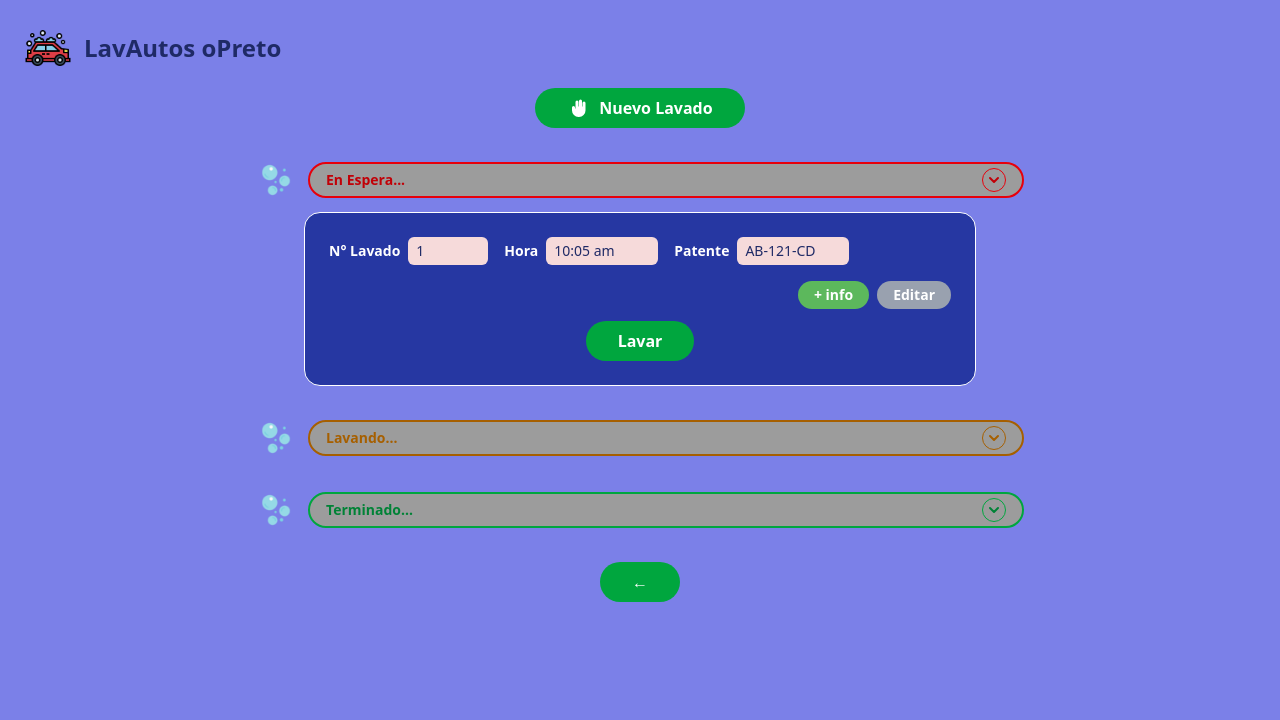
Test case: LavadosPage › +info abre la ventana con los datos y Aceptar la cierra
The image size is (1280, 720).
Check: the field showing "1" is shown, box x1=408 y1=237 x2=488 y2=265
Click the button "+ info": (834, 295) x1=798 y1=281 x2=869 y2=309
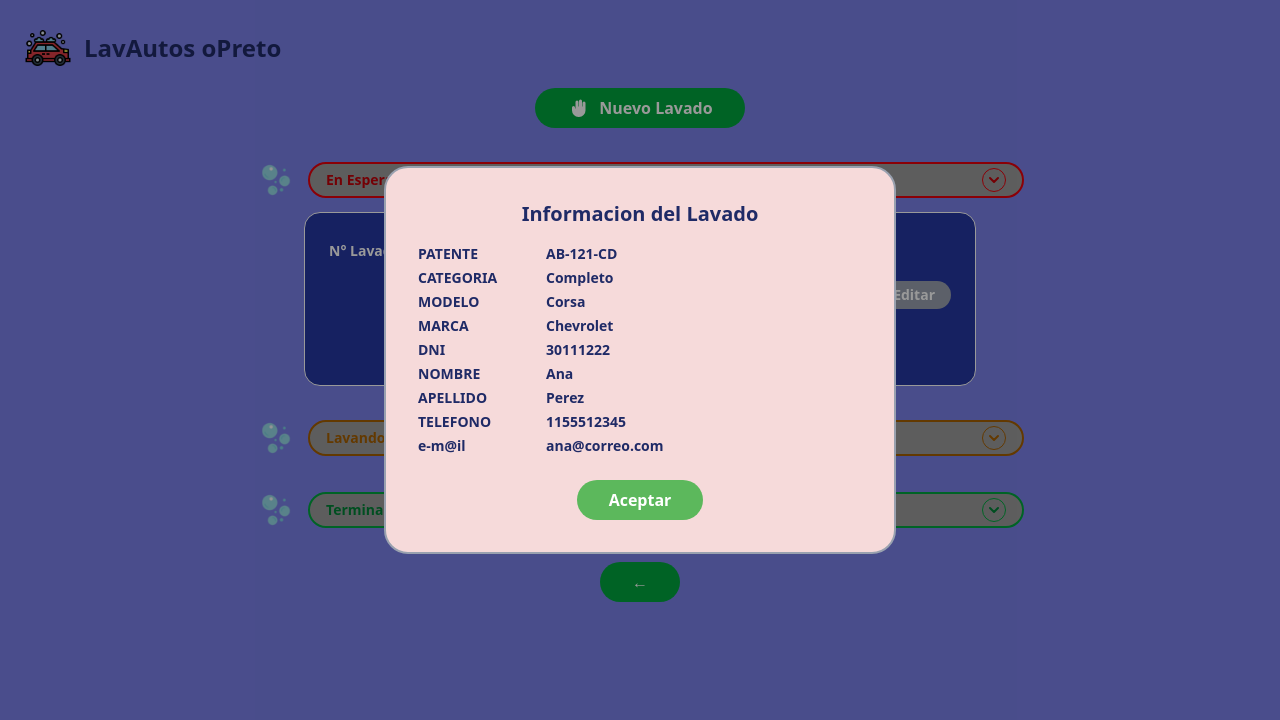
Check: the text "Chevrolet" is shown, box x1=546 y1=316 x2=614 y2=336
Check: the text "Corsa" is shown, box x1=546 y1=292 x2=585 y2=312
Check: the text "30111222" is shown, box x1=546 y1=340 x2=610 y2=360
Click the button "Aceptar": (640, 500) x1=577 y1=480 x2=703 y2=520
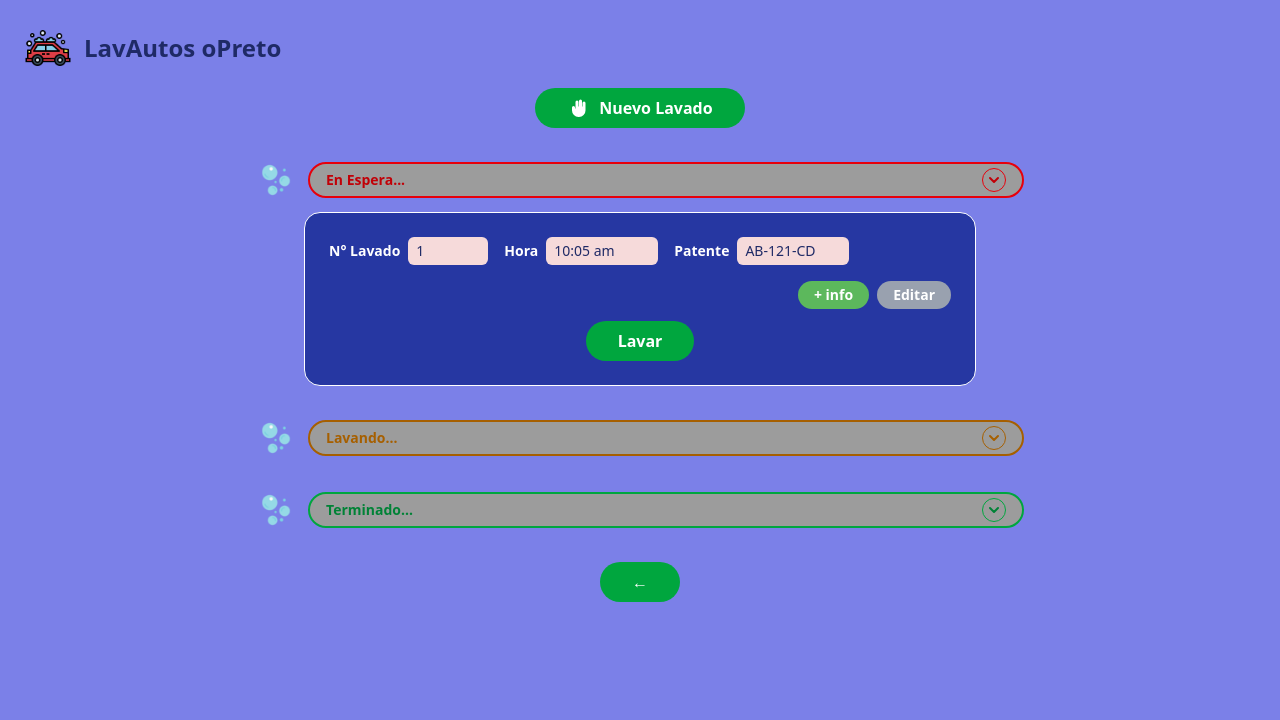
Check: the field showing "1" is shown, box x1=408 y1=237 x2=488 y2=265
Check: the dialog is gone
